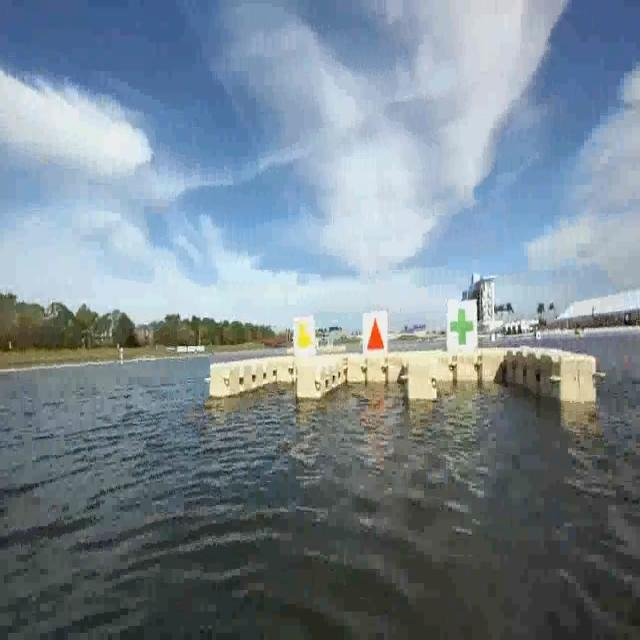blue-cross: (448, 302, 479, 352)
yellow-duck: (292, 318, 315, 356)
